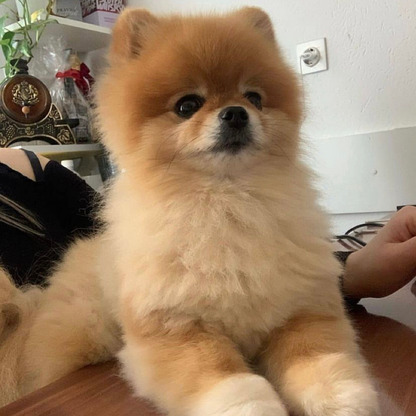Pomeranian: (84, 6, 350, 393)
